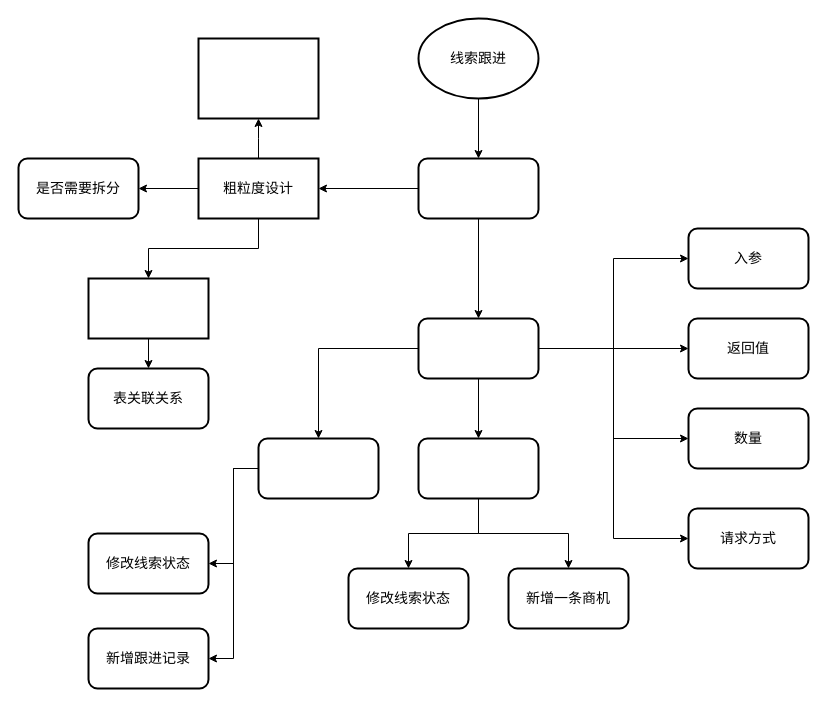
Some shapes in this 826 by 706 pixel diagram are drawn without their labels. The shapes that lost their labels are listed below. From the top down, each one's centre as x and y in pixels, then its label:
the point at 258,78: 跟进记录 下次跟进时间
the point at 478,188: 表设计
the point at 148,308: 细粒度设计
the point at 478,348: 接口确定
the point at 318,468: 伪线索上报
the point at 478,468: x线索转商机
